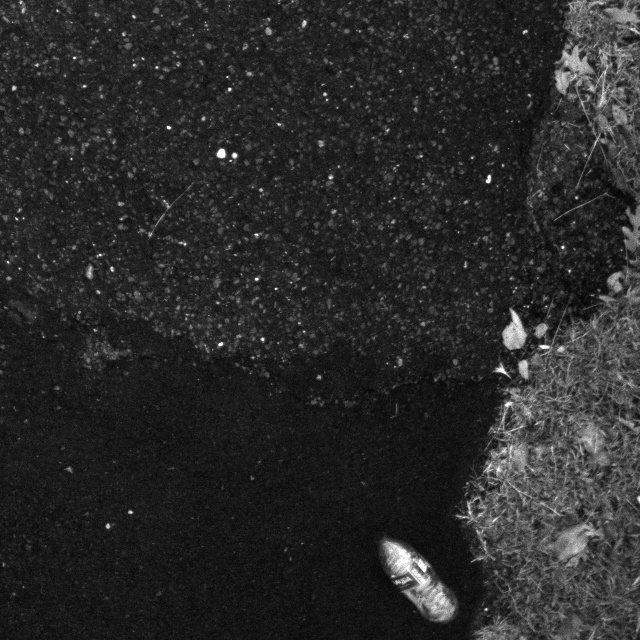bottle: (381, 535, 469, 626)
